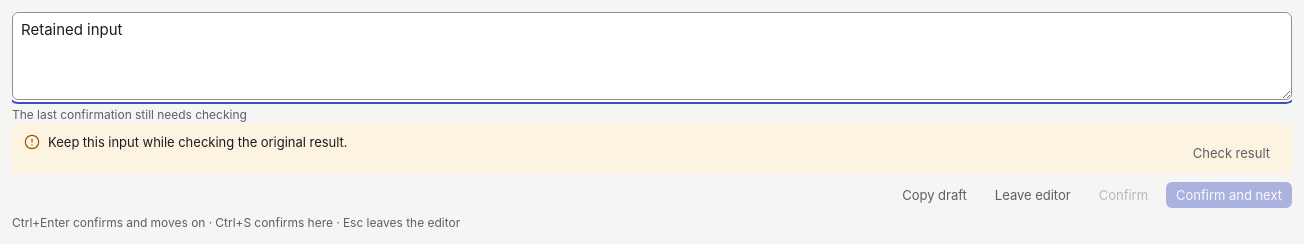
offers lookup before replay and never offers fresh confirmation or discard for an unknown action
Expected: the text "The last confirmation still needs checking" is shown, [12, 107, 247, 122]
Expected: the button "Confirm" is disabled, [1089, 182, 1158, 208]
Click the button "Check result" at coordinates (1231, 153), box [1183, 140, 1280, 166]
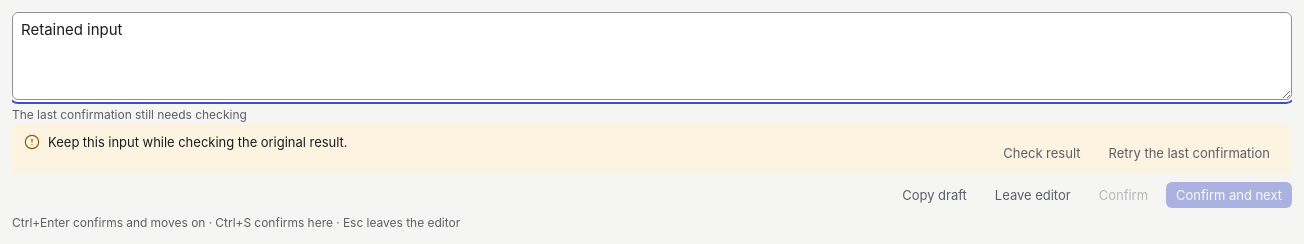
Result: the button "Retry the last confirmation" is enabled at [1098, 140, 1280, 166]
